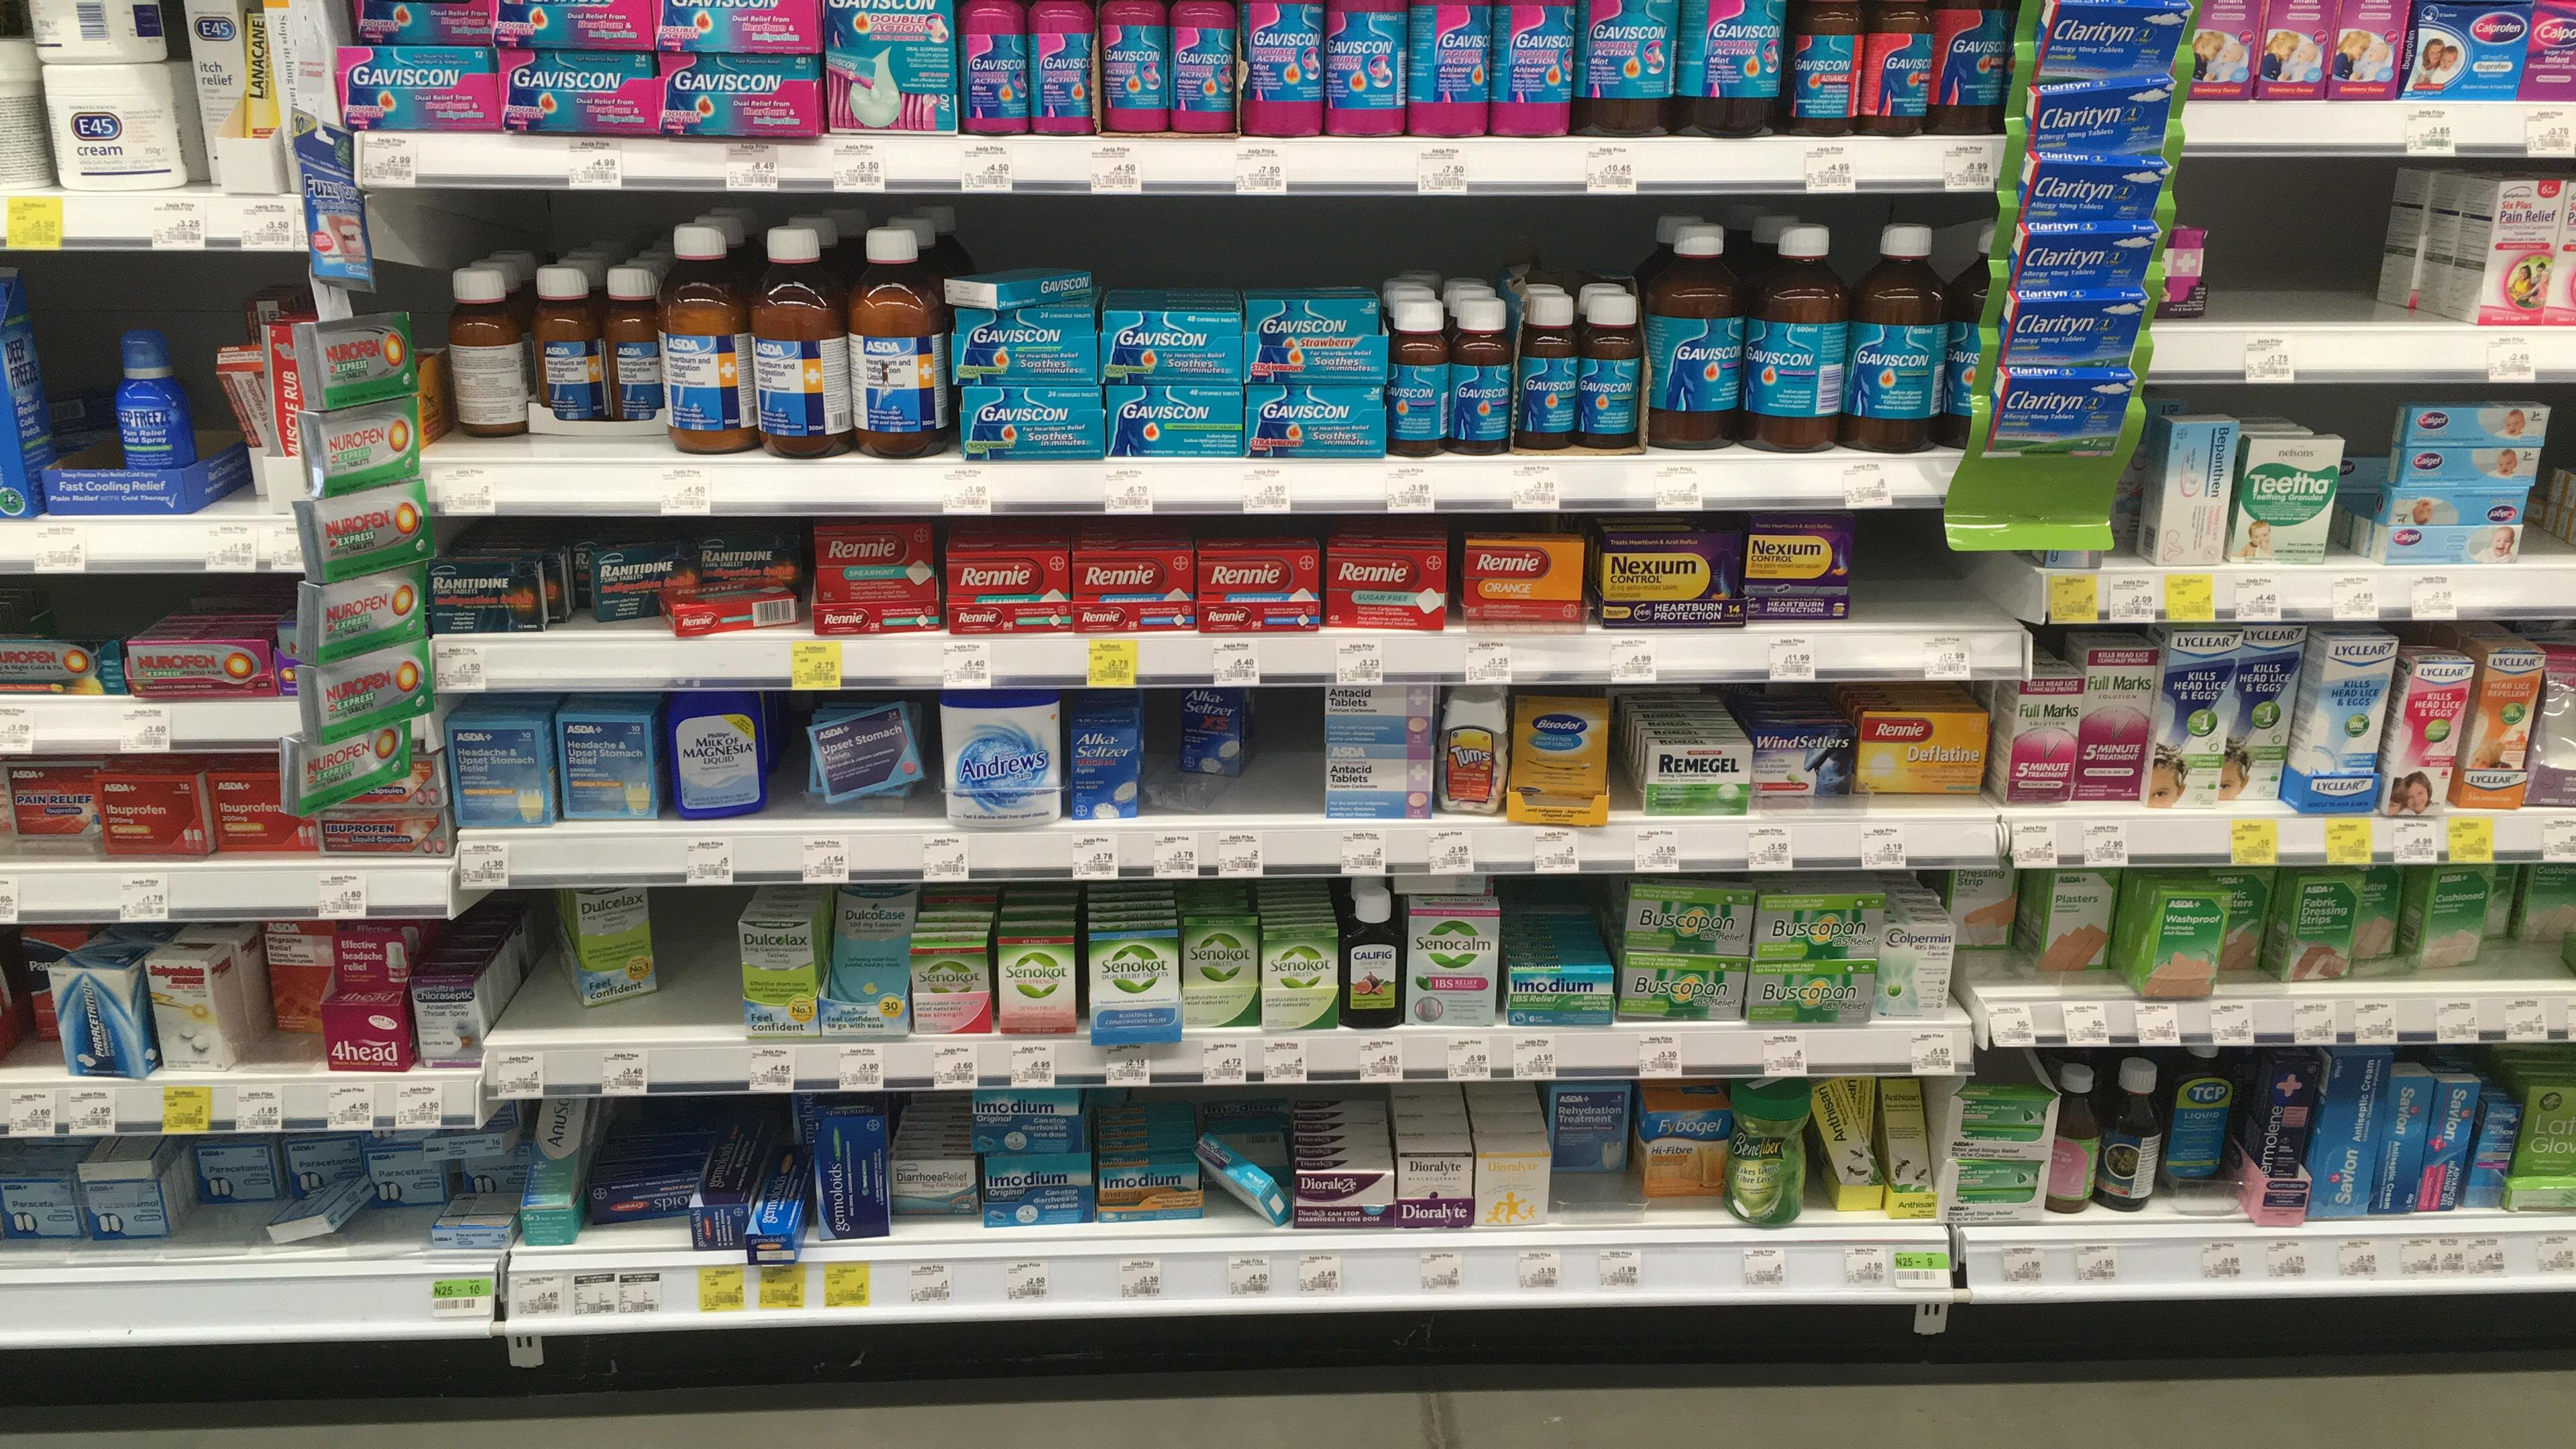misalignment: (550, 872, 658, 1008), (812, 718, 927, 794), (1177, 690, 1253, 798), (653, 584, 801, 639), (1200, 1129, 1283, 1226), (957, 248, 1095, 303), (1817, 1085, 1882, 1189), (433, 1191, 522, 1258), (271, 1184, 377, 1237)
